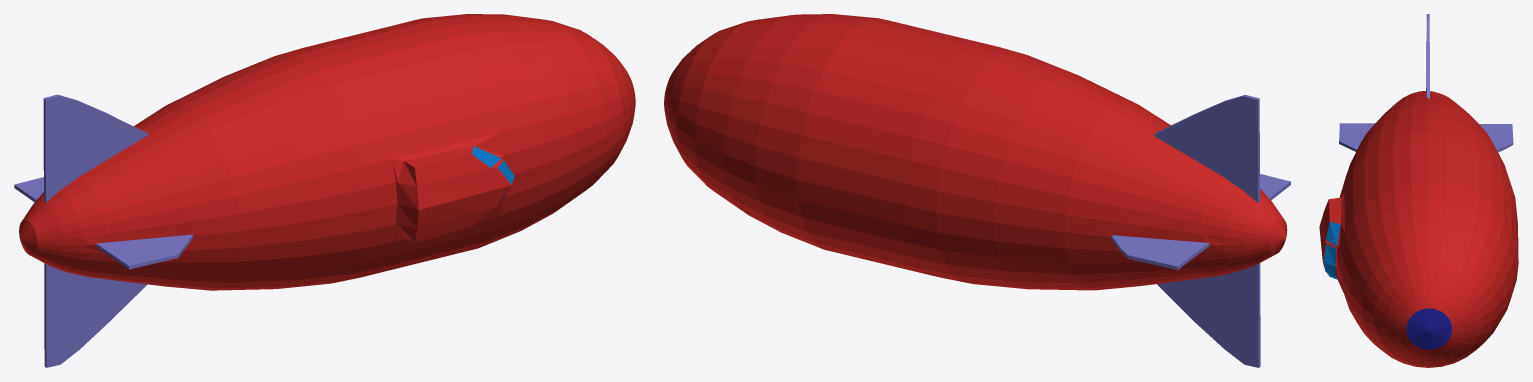
Rendered from blimp.obj.
3 views of the same model, side by side, from view 1: azimuth 30°, elevation 25°; view 2: azimuth 150°, elevation 25°; view 3: azimuth 270°, elevation 25° (orthographic). The views are drawn at different scales.
Bounding box in the file's own units: 8.95 × 3.77 × 3.34.
